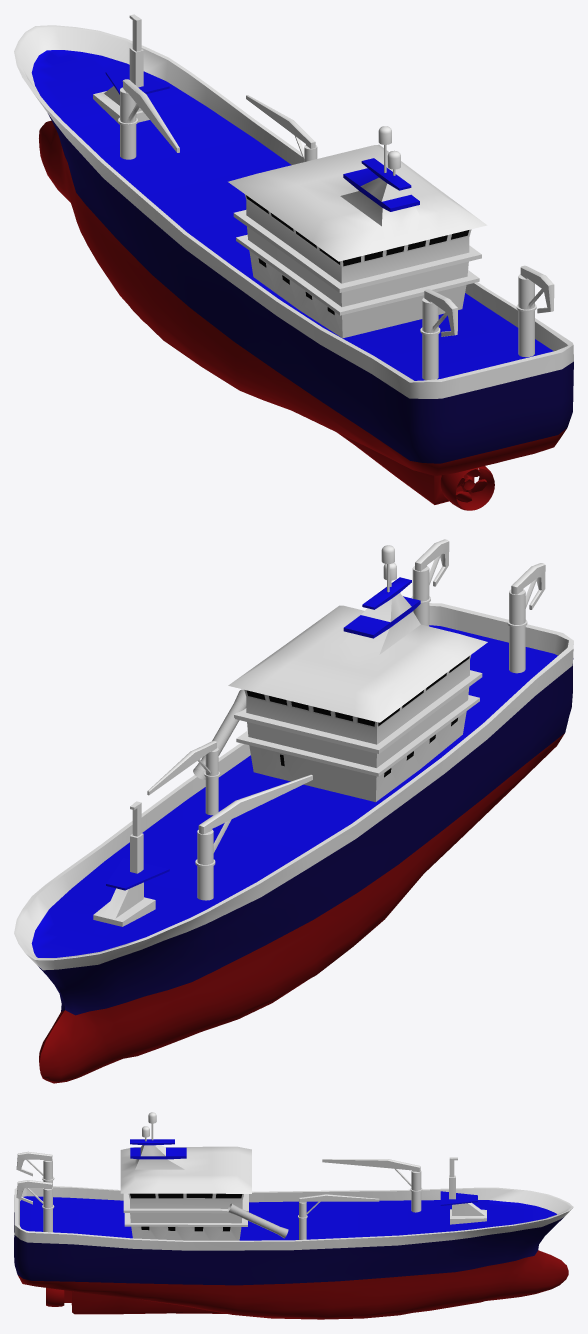
File: FishingBoat.fbx
3 views of the same model, one above another, from view 1: azimuth 30°, elevation 25°; view 2: azimuth 150°, elevation 25°; view 3: azimuth 270°, elevation 25° (orthographic). The views are drawn at different scales.
Parts seen in each view (by area): view 1: Boat; view 2: Boat; view 3: Boat.
Part boxes in pixels (left/top/right/bottom): Boat: left=14, top=14, right=573, bottom=510; Boat: left=14, top=539, right=573, bottom=1083; Boat: left=14, top=1112, right=573, bottom=1319.
Bounding box in the file's own units: 1183 × 2152 × 5556.
